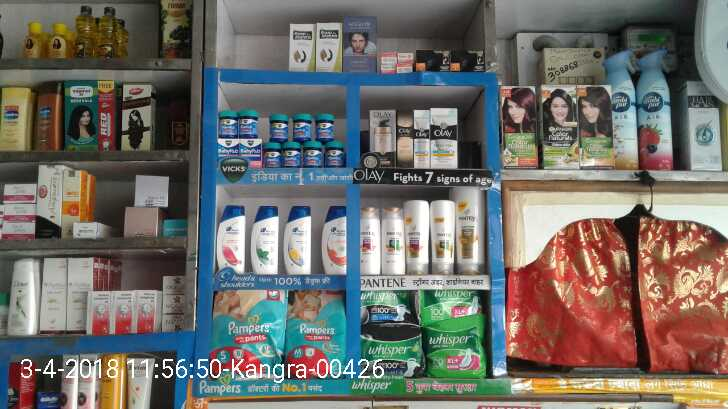vicks: (217, 108, 347, 168)
